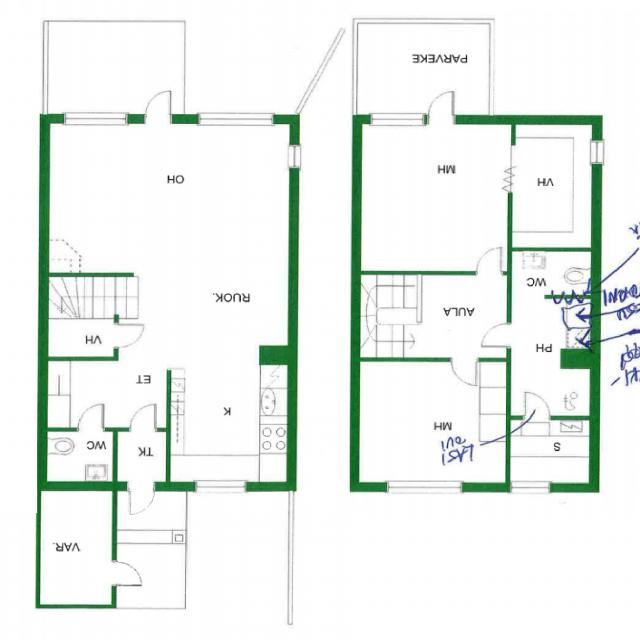door: (144, 89, 171, 124), (128, 482, 154, 516), (428, 90, 453, 124), (78, 404, 104, 432), (130, 404, 155, 432), (525, 392, 550, 420), (481, 323, 511, 346), (114, 324, 142, 348), (452, 356, 476, 384), (478, 248, 502, 275), (112, 562, 140, 585)
